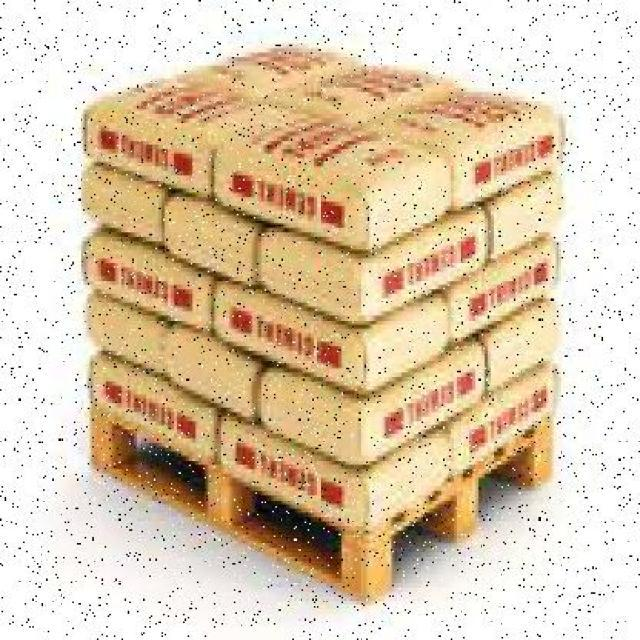gunny_bag: (211, 143, 371, 260), (210, 281, 363, 392), (218, 416, 364, 531), (84, 228, 213, 335), (258, 61, 466, 127), (439, 234, 556, 350), (92, 351, 217, 458), (442, 363, 556, 478), (84, 101, 213, 199), (256, 359, 359, 470), (252, 221, 364, 322), (163, 194, 264, 289), (458, 119, 565, 208), (180, 43, 359, 93), (165, 324, 259, 419), (484, 171, 563, 267), (482, 299, 557, 395), (83, 163, 165, 247), (90, 293, 165, 377)
